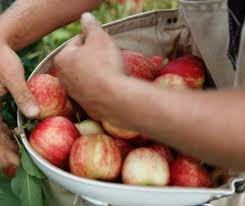apple: (70, 131, 122, 181), (17, 71, 68, 121), (29, 114, 80, 157), (119, 149, 170, 188), (162, 54, 209, 90), (174, 156, 209, 187)
